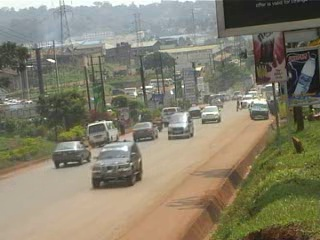Car: (89, 138, 144, 189), (50, 138, 92, 169), (164, 110, 196, 141), (131, 120, 159, 143), (201, 104, 220, 126), (188, 103, 204, 118), (238, 93, 255, 106)
